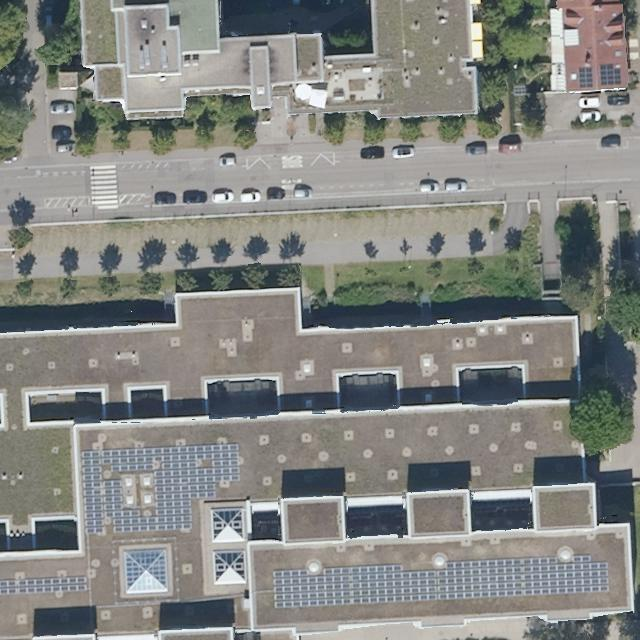PV: (270, 552, 610, 611), (78, 440, 242, 537), (0, 569, 91, 598), (597, 62, 623, 88), (575, 63, 595, 88)
